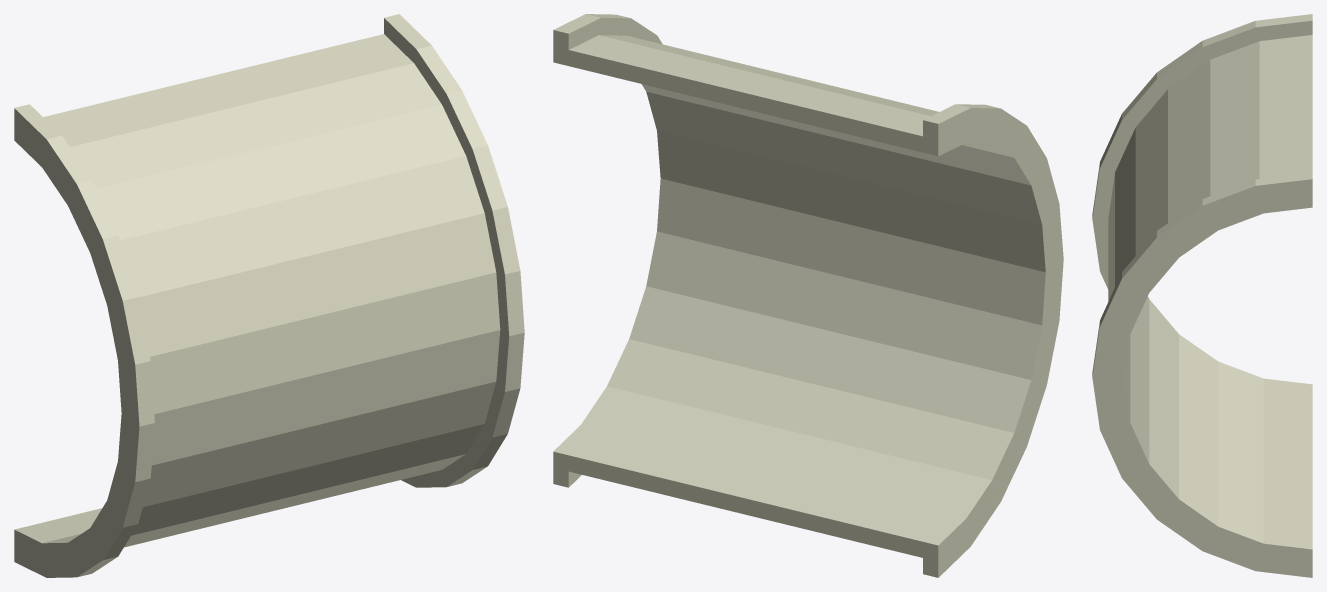
The model's file is section_020.obj.
The picture shows the model from 3 angles, left to right: view 1: azimuth 30°, elevation 25°; view 2: azimuth 150°, elevation 25°; view 3: azimuth 270°, elevation 25°; orthographic projection. The views are drawn at different scales.
Bounding box in the file's own units: 24.86 × 28 × 14.
